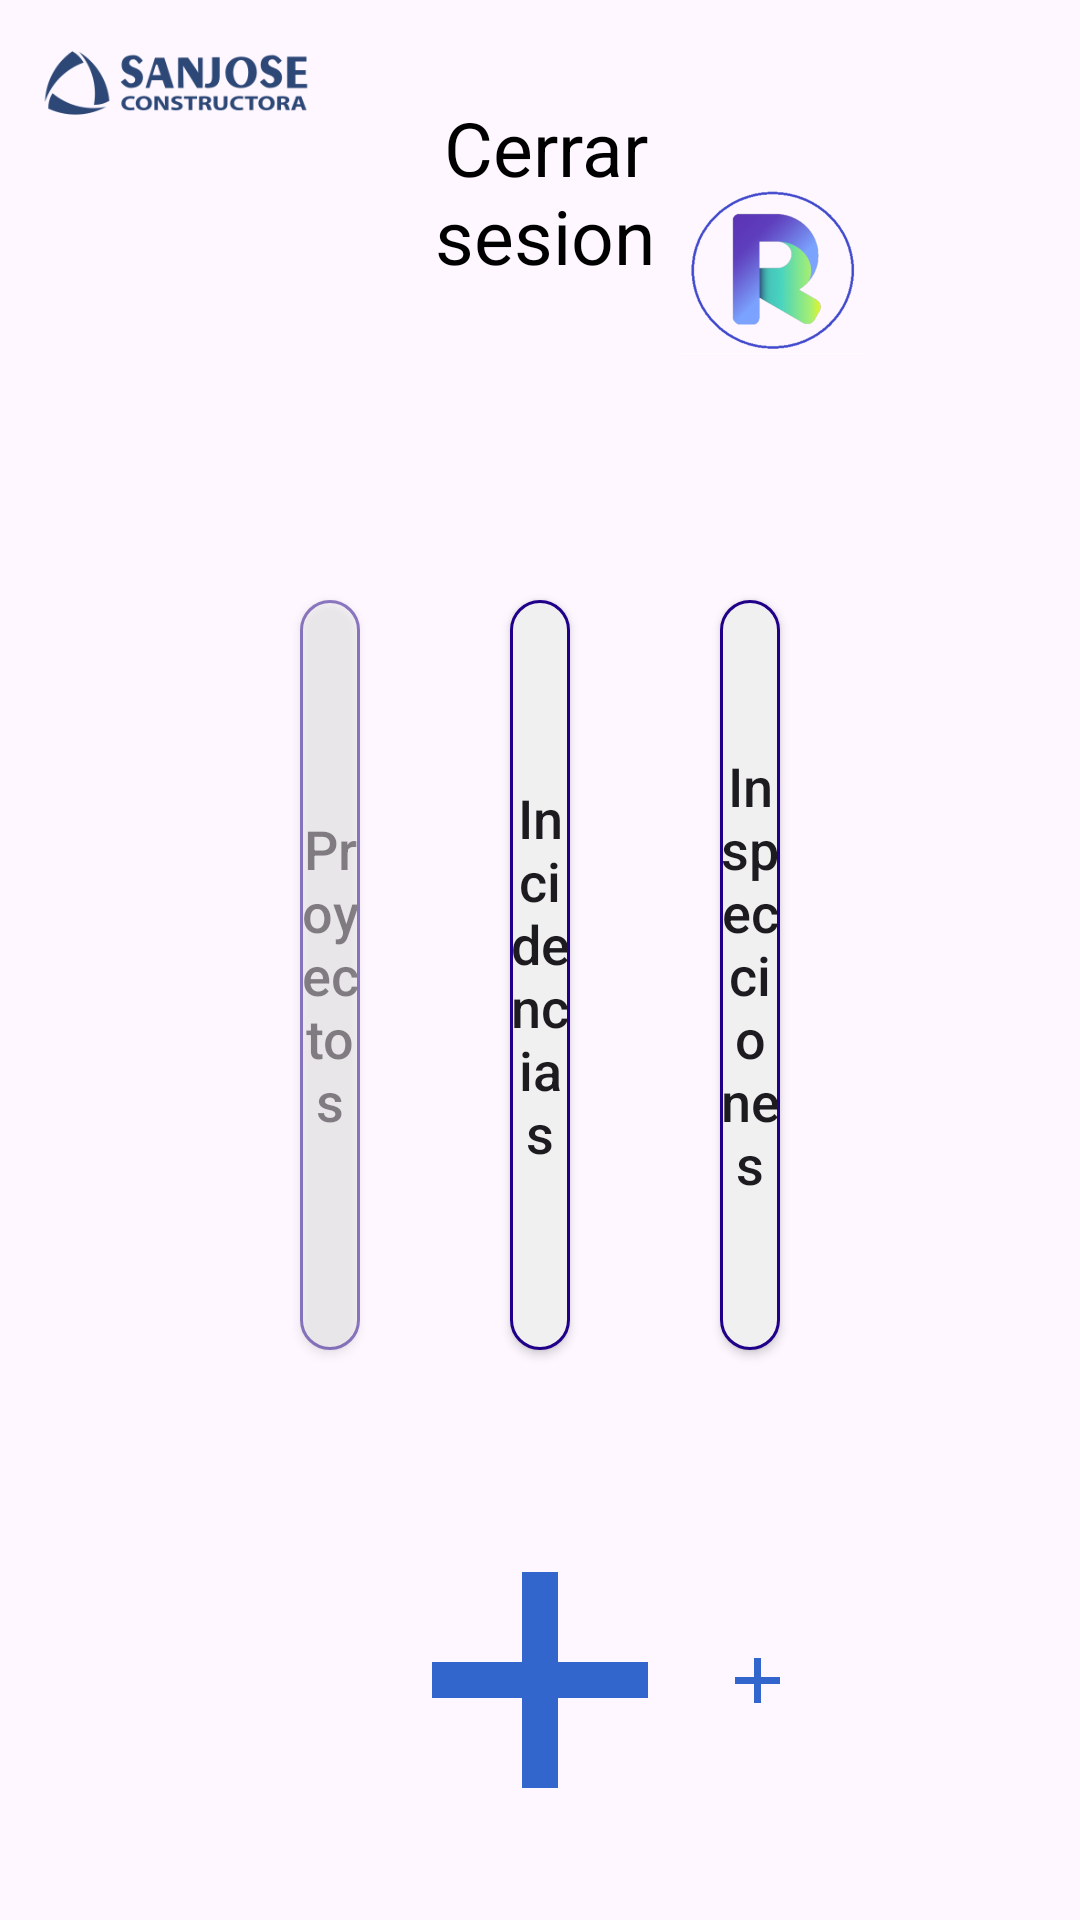

Screen size 1080px x 1920px. Icon name, then its box in pixels as (left=x1, top=y1, right=x2, bottom=y2):
add: (left=432, top=1572, right=648, bottom=1788), (left=735, top=1658, right=780, bottom=1703)
